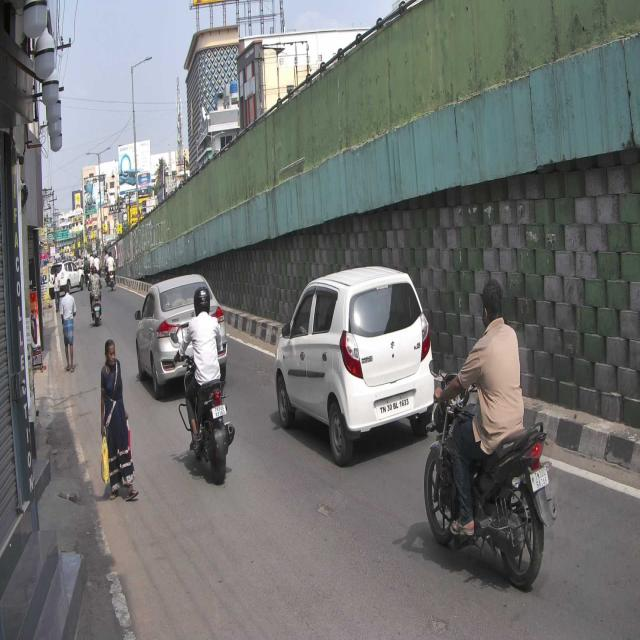single_rider: (425, 281, 557, 595), (172, 284, 236, 487)
